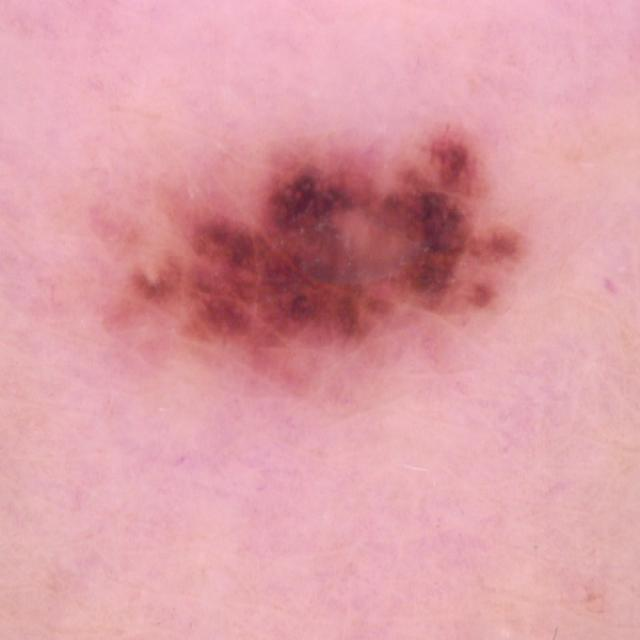NV: (80, 122, 528, 400)
